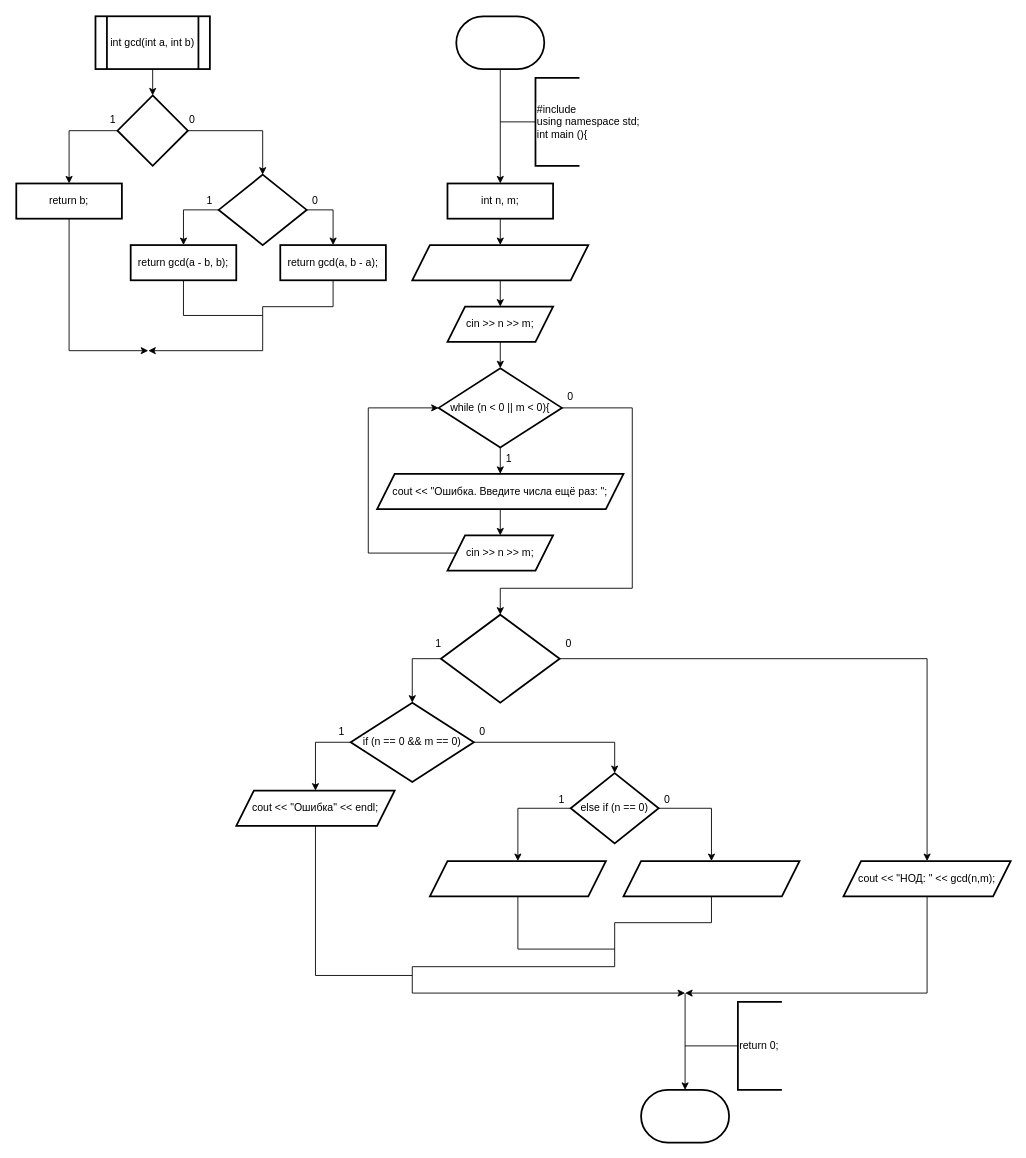
Image size: 1026x1158. Some labels were removed from this diagram. The centre of each missing label's shape, as x and y in pixels:
cout << "Введите два числа: ";: (500,262)
cout << "НОД: " << n << endl;: (711,878)
cout << "НОДL " << m << endl;: (517,878)
else if (a > b): (262,209)
if (a == b): (152,130)
if (n == 0 || m == 0){: (500,658)
Конец: (685,1116)
Начало: (500,42)
